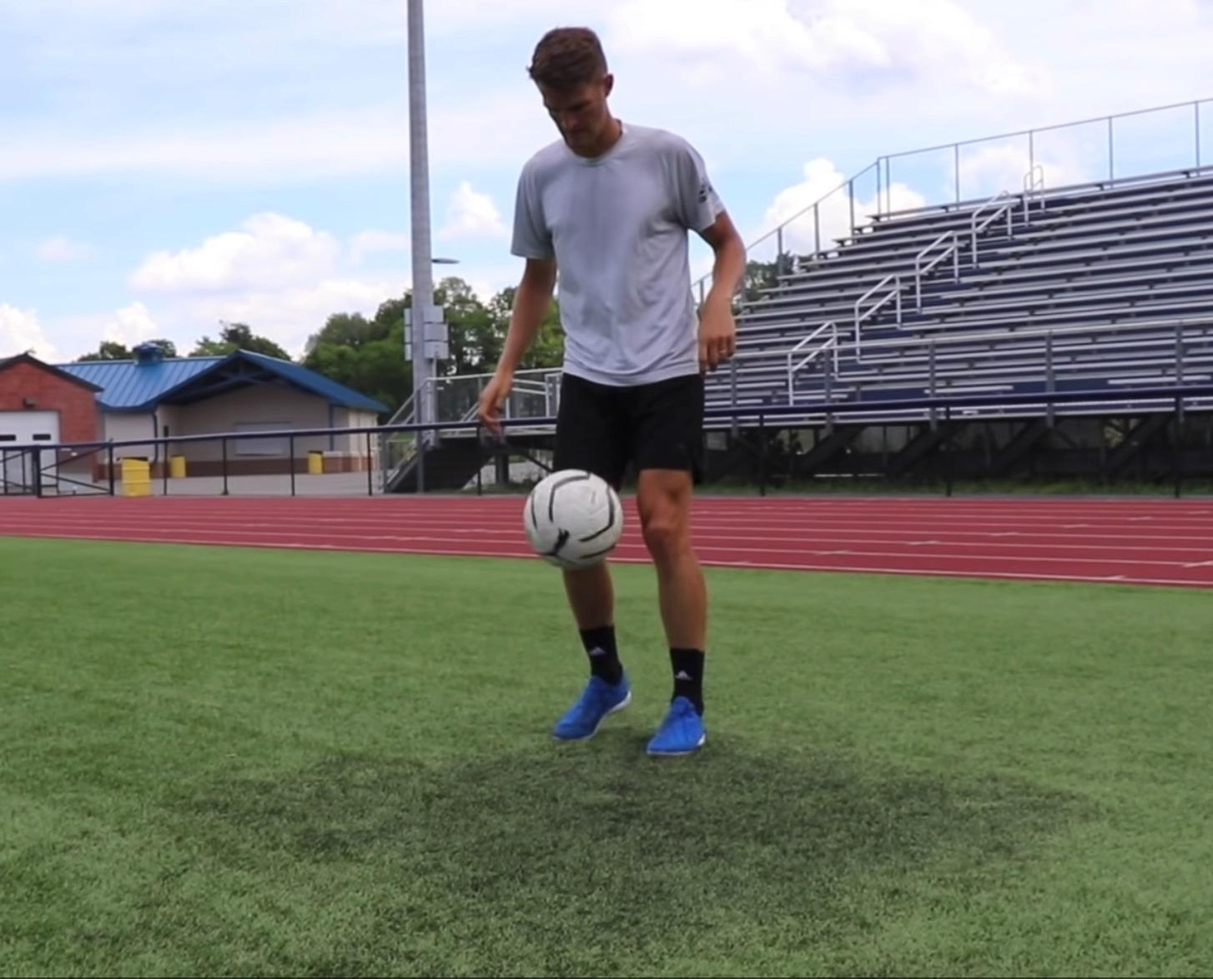ball: (523, 469, 621, 567)
foot: (548, 670, 635, 741), (642, 695, 709, 757)
person: (483, 26, 748, 754)
